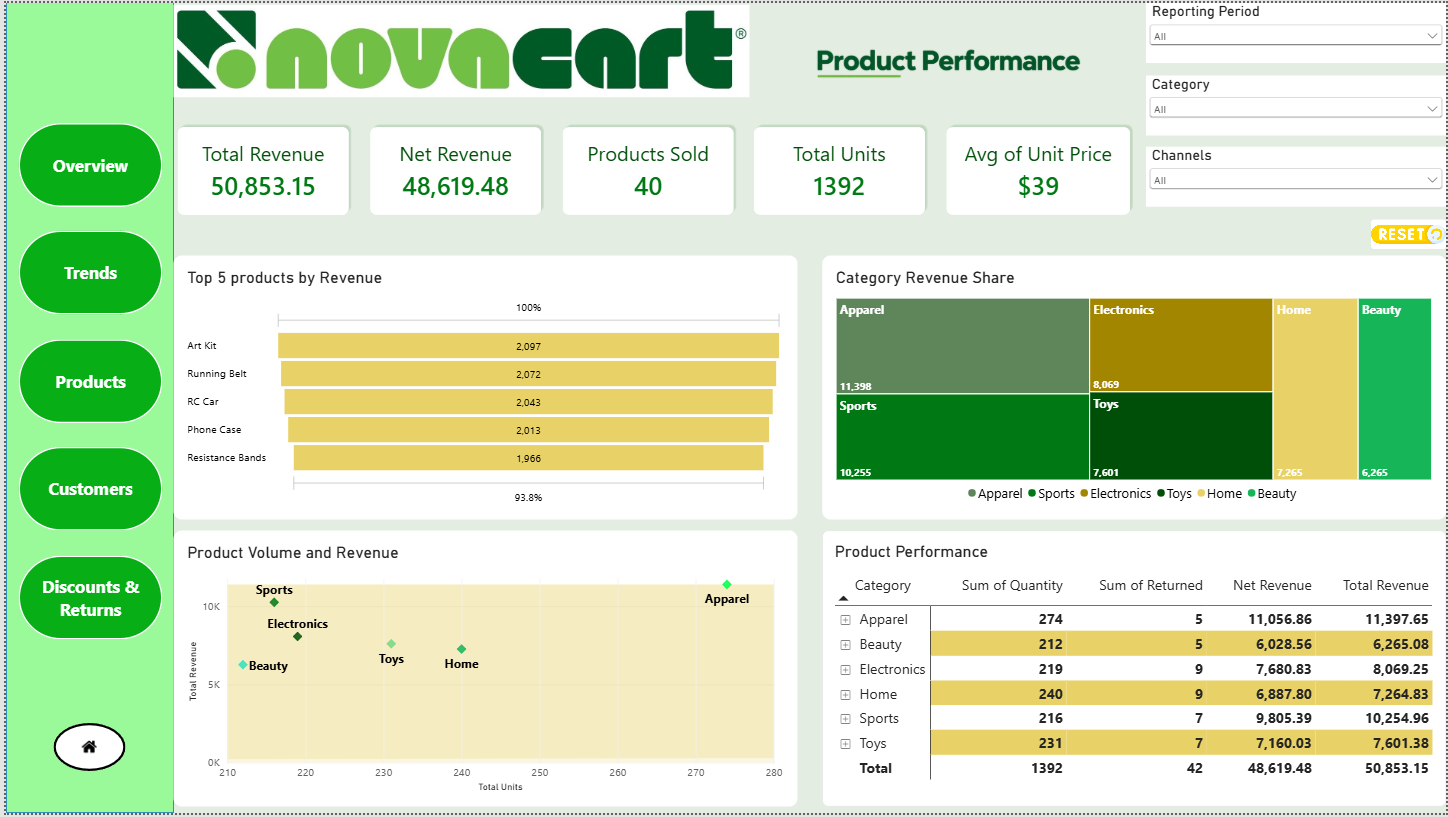

Layout of this report page (visuals, bound fields, positions):
{"tool":"powerbi","page":{"name":"Products","canvas":[1920,1080],"ordinal":2},"visuals":[{"type":"shape","box":[0,-8,224,1088],"z":0},{"type":"image","box":[224,0,768,128],"z":1000},{"type":"cardVisual","fields":{"Data":["Order Data.Total Revenue"]},"box":[224,160,240,128],"z":2000},{"type":"pivotTable","title":"Product Performance","fields":{"Rows":["Product Data.Category Hierarchy.Category","Product Data.Category Hierarchy.Product Name"],"Values":["Sum(Order Data.Quantity)","Sum(Order Data.Returned)","Order Data.Net Revenue","Order Data.Total Revenue"]},"box":[1088,704,832,368],"z":3000},{"type":"treemap","title":"Category Revenue Share","fields":{"Group":["Product Data.Category Hierarchy.Category","Product Data.Category Hierarchy.Product Name"],"Values":["Order Data.Total Revenue"]},"box":[1088,336,832,352],"z":4000},{"type":"funnel","title":"Top 5 products by Revenue","fields":{"Category":["Product Data.Product Name"],"Y":["Order Data.Total Revenue"]},"box":[224,336,832,352],"z":5000},{"type":"scatterChart","title":"Product Volume and Revenue","fields":{"Category":["Product Data.Category"],"X":["Order Data.Total Units"],"Y":["Order Data.Total Revenue"]},"box":[224,704,832,368],"z":6000},{"type":"cardVisual","fields":{"Data":["Order Data.Net Revenue"]},"box":[480,160,240,128],"z":7000},{"type":"cardVisual","fields":{"Data":["Order Data.Products Sold"]},"box":[736,160,240,128],"z":8000},{"type":"cardVisual","fields":{"Data":["Order Data.Total Units"]},"box":[992,160,240,128],"z":9000},{"type":"slicer","fields":{"Values":["Date Table.Year","Date Table.Month Name"]},"box":[1520,0,400,80],"z":10000},{"type":"slicer","fields":{"Values":["Product Data.Category"]},"box":[1520,96,400,80],"z":11000},{"type":"slicer","fields":{"Values":["Order Data.Channel"]},"box":[1520,192,400,80],"z":12000},{"type":"cardVisual","fields":{"Data":["Avg(Order Data.Unit Price)"]},"box":[1248,160,256,128],"z":13000},{"type":"actionButton","box":[1820,288,100,40],"z":14000},{"type":"actionButton","box":[16,160,192,112],"z":14001},{"type":"actionButton","box":[16,304,192,112],"z":14002},{"type":"actionButton","box":[16,448,192,112],"z":14003},{"type":"actionButton","box":[16,592,192,112],"z":14004},{"type":"actionButton","box":[16,736,192,112],"z":14005},{"type":"image","box":[1072,0,368,160],"z":14006},{"type":"actionButton","box":[64,960,96,64],"z":14007}]}

Visuals, with their boxes in screenshot pixels (x1, y1, x2, y2), scaled from the page's 1920x1080 canvas onto the 1448x817 screenshot:
shape: region(0, 0, 169, 816)
image: region(169, 0, 748, 97)
cardVisual - Order Data.Total Revenue: region(169, 121, 350, 218)
"Product Performance" pivotTable: region(821, 533, 1447, 811)
"Category Revenue Share" treemap: region(821, 254, 1447, 520)
"Top 5 products by Revenue" funnel: region(169, 254, 796, 520)
"Product Volume and Revenue" scatterChart: region(169, 533, 796, 811)
cardVisual - Order Data.Net Revenue: region(362, 121, 543, 218)
cardVisual - Order Data.Products Sold: region(555, 121, 736, 218)
cardVisual - Order Data.Total Units: region(748, 121, 929, 218)
slicer - Date Table.Year x Date Table.Month Name: region(1146, 0, 1447, 61)
slicer - Product Data.Category: region(1146, 73, 1447, 133)
slicer - Order Data.Channel: region(1146, 145, 1447, 206)
cardVisual - Avg(Order Data.Unit Price): region(941, 121, 1134, 218)
actionButton: region(1373, 218, 1447, 248)
actionButton: region(12, 121, 157, 206)
actionButton: region(12, 230, 157, 315)
actionButton: region(12, 339, 157, 424)
actionButton: region(12, 448, 157, 533)
actionButton: region(12, 557, 157, 641)
image: region(808, 0, 1086, 121)
actionButton: region(48, 726, 121, 775)
